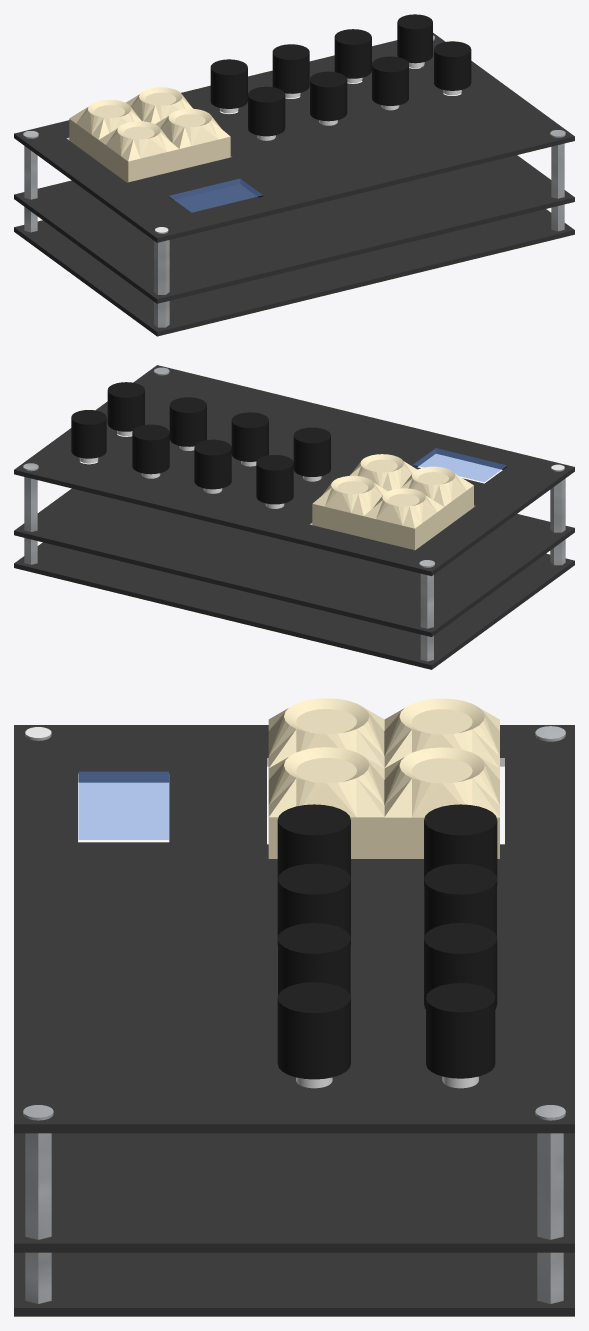
File: MC8P_SKTECHUP.obj
3 views of the same model, one above another, from view 1: azimuth 30°, elevation 25°; view 2: azimuth 150°, elevation 25°; view 3: azimuth 270°, elevation 25° (orthographic). The views are drawn at different scales.
Parts seen in each view (by area): view 1: Mesh5 Model, Mesh6 Model, Mesh3 Group3 Model, Mesh4 Group4 Model, Mesh1 Group1 Model, Mesh10 Model, Mesh12 Model, Mesh14 Model, Mesh11 Model, Mesh9 Model, Mesh7 Model, Mesh13 Model (+2 smaller); view 2: Mesh5 Model, Mesh6 Model, Mesh1 Group1 Model, Mesh2 Group2 Model, Mesh3 Group3 Model, Mesh11 Model, Mesh9 Model, Mesh7 Model, Mesh10 Model, Mesh12 Model, Mesh14 Model, Mesh13 Model (+2 smaller); view 3: Mesh5 Model, Mesh6 Model, Mesh4 Group4 Model, Mesh2 Group2 Model, Mesh14 Model, Mesh8 Model, Mesh3 Group3 Model, Mesh1 Group1 Model, Mesh7 Model, Mesh10 Model, Mesh12 Model, Mesh11 Model (+2 smaller).
Part boxes in pixels (box(x1,y1,x2,y2)): Mesh5 Model: box(14, 33, 574, 336); Mesh6 Model: box(14, 108, 574, 303); Mesh3 Group3 Model: box(98, 121, 179, 182); Mesh4 Group4 Model: box(155, 108, 230, 169); Mesh1 Group1 Model: box(69, 99, 141, 161); Mesh10 Model: box(210, 59, 247, 113); Mesh12 Model: box(310, 71, 347, 125); Mesh14 Model: box(434, 41, 471, 95); Mesh11 Model: box(248, 86, 285, 140); Mesh9 Model: box(272, 44, 309, 98); Mesh7 Model: box(334, 29, 371, 83); Mesh13 Model: box(372, 56, 408, 110); Mesh5 Model: box(14, 365, 574, 669); Mesh6 Model: box(14, 449, 574, 636); Mesh1 Group1 Model: box(363, 488, 444, 550); Mesh2 Group2 Model: box(312, 475, 387, 537); Mesh3 Group3 Model: box(400, 466, 473, 528); Mesh11 Model: box(293, 427, 330, 481); Mesh9 Model: box(194, 439, 231, 493); Mesh7 Model: box(132, 424, 169, 478); Mesh10 Model: box(256, 455, 293, 508); Mesh12 Model: box(231, 412, 268, 466); Mesh14 Model: box(107, 382, 144, 436); Mesh13 Model: box(169, 397, 206, 450); Mesh5 Model: box(14, 725, 574, 1316); Mesh6 Model: box(14, 844, 574, 1252); Mesh4 Group4 Model: box(268, 747, 384, 858); Mesh2 Group2 Model: box(384, 747, 499, 858); Mesh14 Model: box(277, 982, 350, 1088); Mesh8 Model: box(426, 983, 495, 1088); Mesh3 Group3 Model: box(268, 698, 384, 768); Mesh1 Group1 Model: box(384, 698, 499, 768); Mesh7 Model: box(424, 923, 497, 1008); Mesh10 Model: box(424, 804, 497, 886); Mesh12 Model: box(277, 863, 350, 945); Mesh11 Model: box(277, 804, 350, 878).
Size of the model in its own units: 155 by 49.8 by 92.
6 materials, 1 textured.
